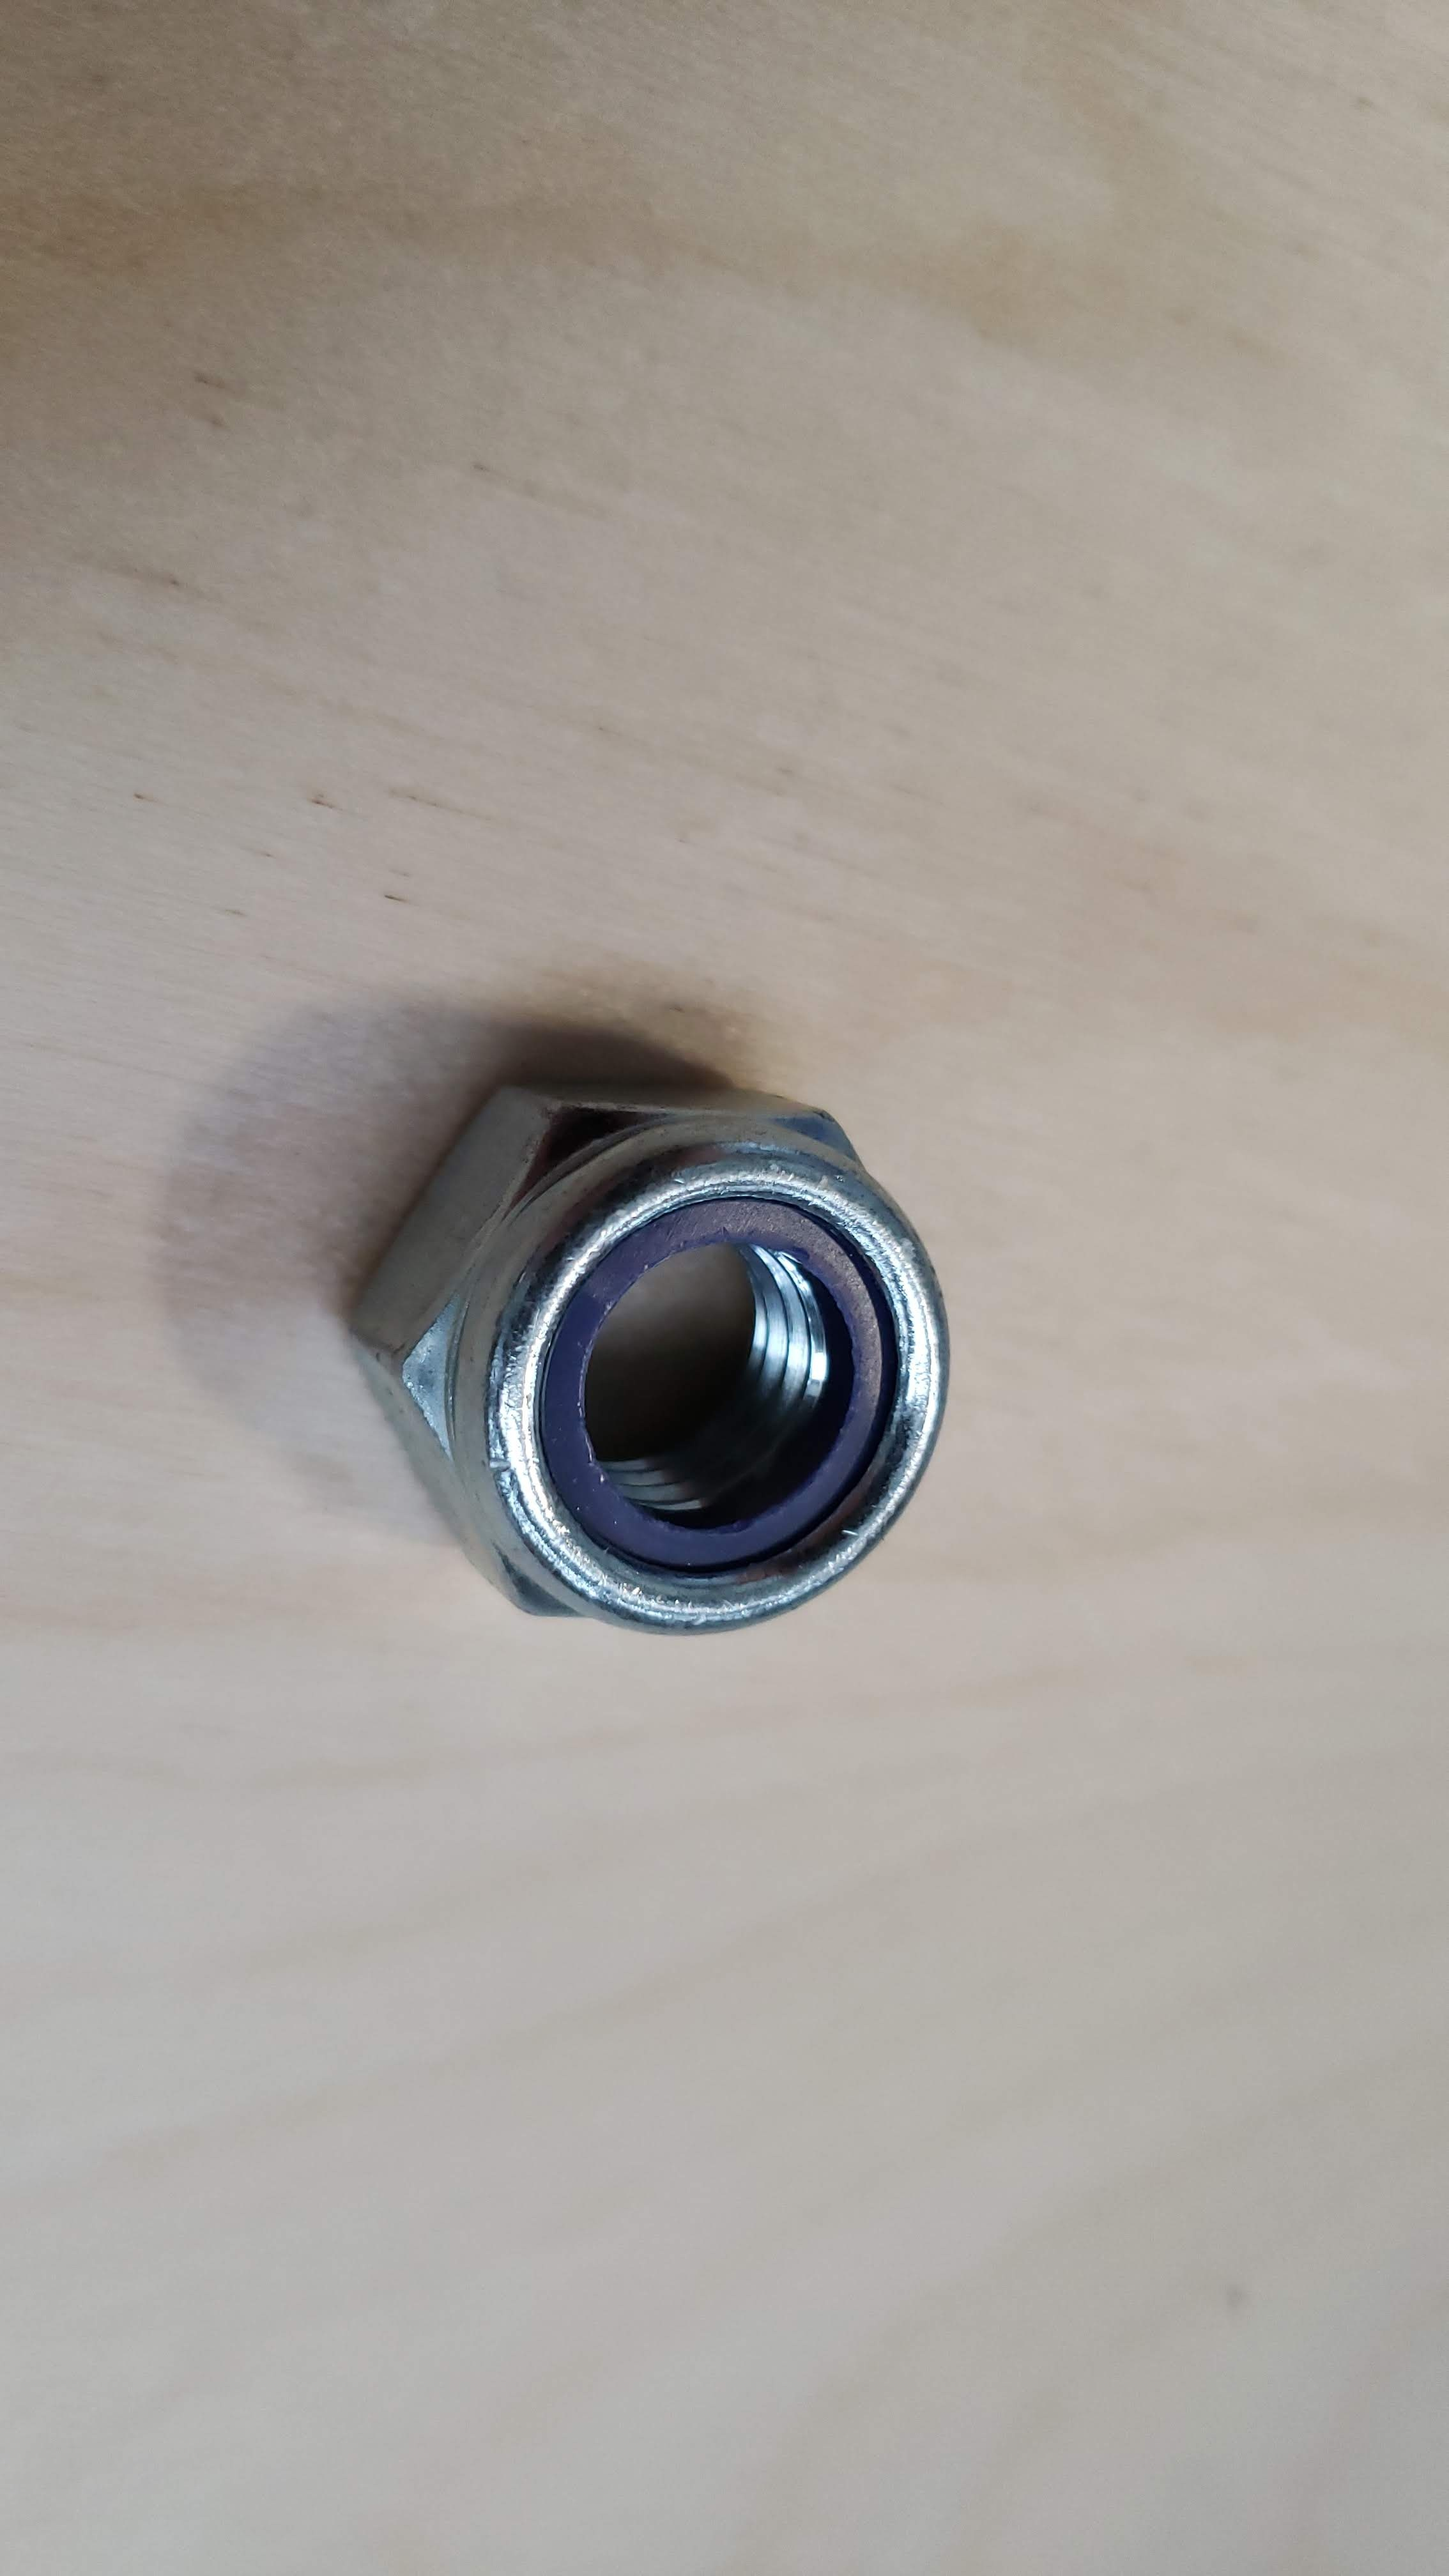Nut: (209, 932, 1072, 1734)
